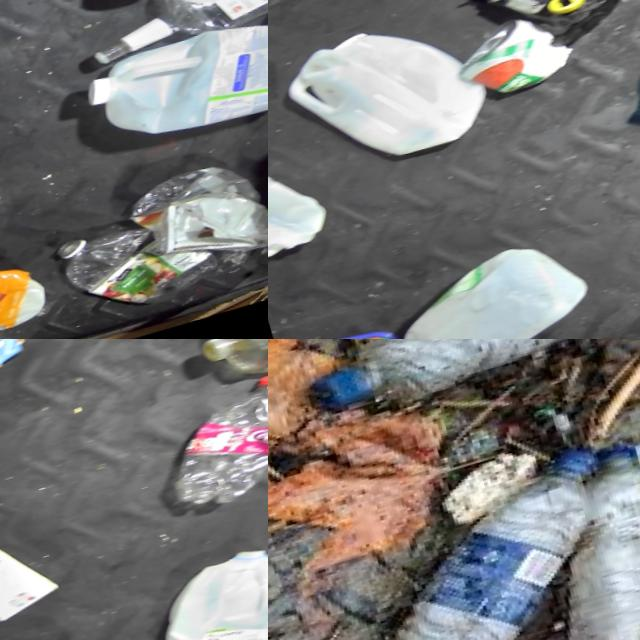can: (455, 11, 582, 109)
milk_jug: (277, 5, 493, 186), (60, 2, 268, 169), (379, 228, 598, 339), (132, 535, 268, 640), (268, 117, 340, 262)
plastic_bottle: (331, 440, 640, 640), (303, 339, 620, 430), (528, 440, 640, 640), (42, 211, 215, 331), (148, 369, 268, 521)
